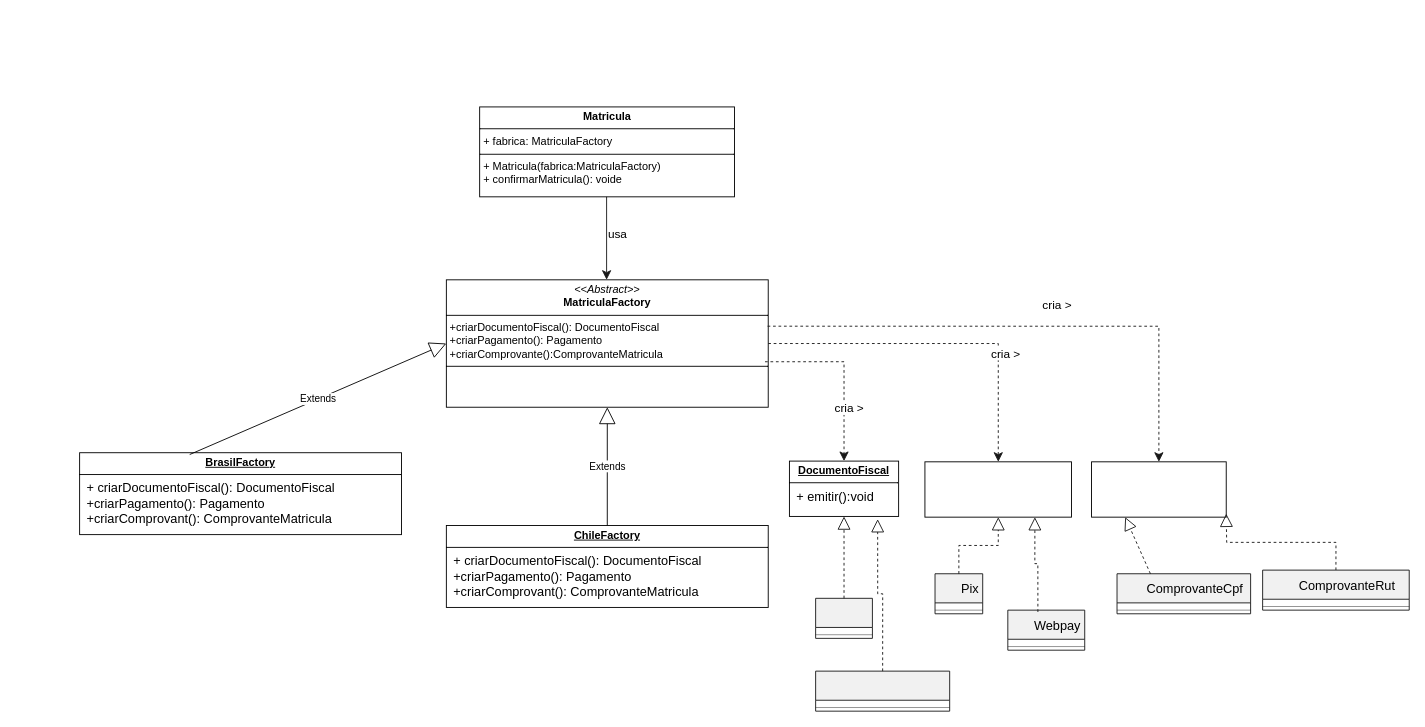
This 1425x727 diagram has some shape labels left out. The centre of each missing label's shape, as x and y in pixels:
"BoletaElectronica" belongs at (x=882, y=690).
"ComprovanteMatricula + gerar():void" belongs at (x=1158, y=489).
"Nfse" belongs at (x=843, y=617).
"Pagamento + processar():void" belongs at (x=998, y=489).
